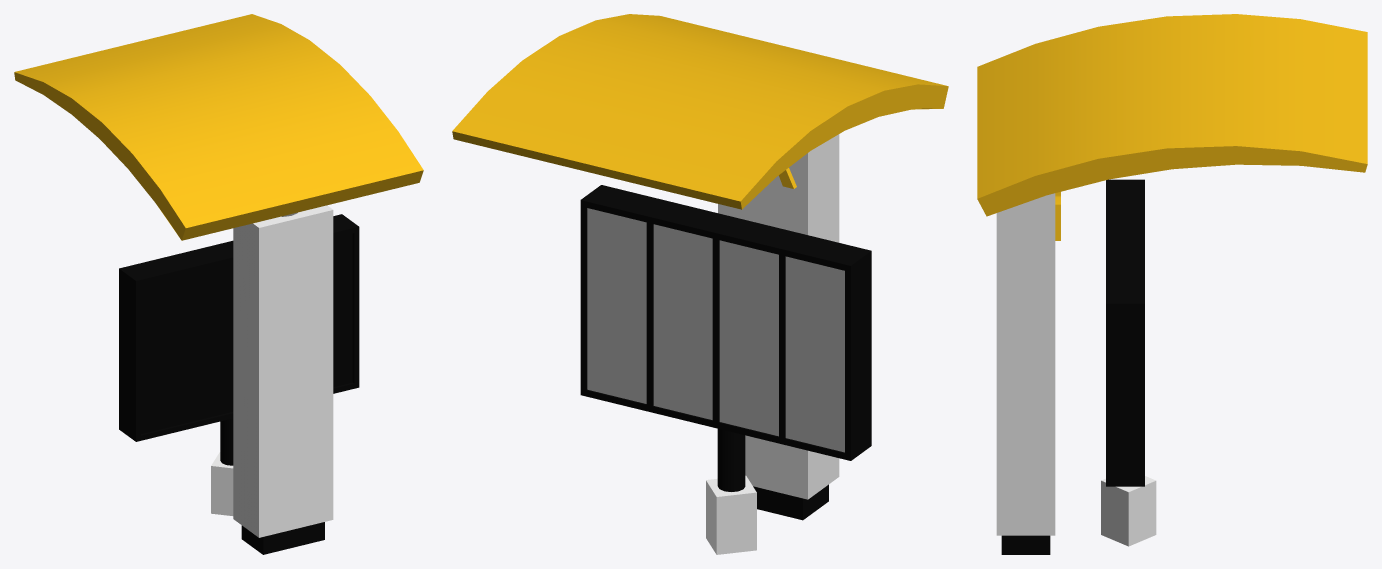
File: drive_thru_terminal.FBX
3 renders of one model, left to right at view 1: azimuth 30°, elevation 25°; view 2: azimuth 150°, elevation 25°; view 3: azimuth 270°, elevation 25°, orthographic. The views are drawn at different scales.
Visible parts, largest first — view 1: drive_thru_terminal, drive_thru_terminal_menu; view 2: drive_thru_terminal_menu, drive_thru_terminal; view 3: drive_thru_terminal, drive_thru_terminal_menu.
Part boxes in pixels (x1=…): drive_thru_terminal: x1=14, y1=14, x2=423, y2=554; drive_thru_terminal_menu: x1=119, y1=214, x2=359, y2=515; drive_thru_terminal_menu: x1=580, y1=185, x2=871, y2=554; drive_thru_terminal: x1=452, y1=14, x2=948, y2=520; drive_thru_terminal: x1=977, y1=14, x2=1367, y2=554; drive_thru_terminal_menu: x1=1101, y1=179, x2=1156, y2=546.
Size of the model in its own units: 244 by 395 by 305.
